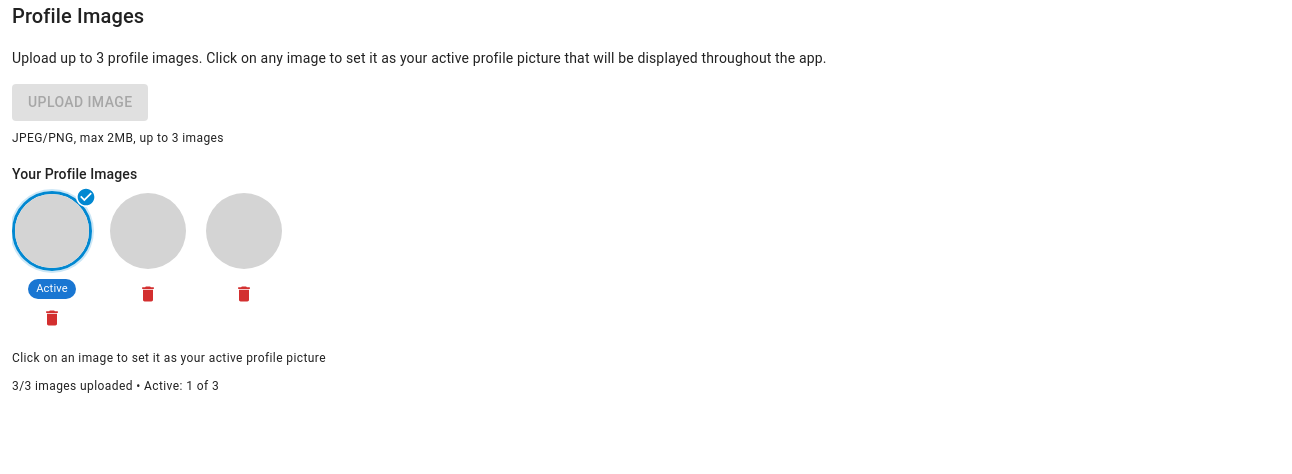
Test: ProfileImageManager › Image Deletion › should show error when delete fails
The image size is (1292, 474).
Click the 3rd button named "delete profile image". click: point(52, 318)
box: x1=37 y1=303 x2=67 y2=333
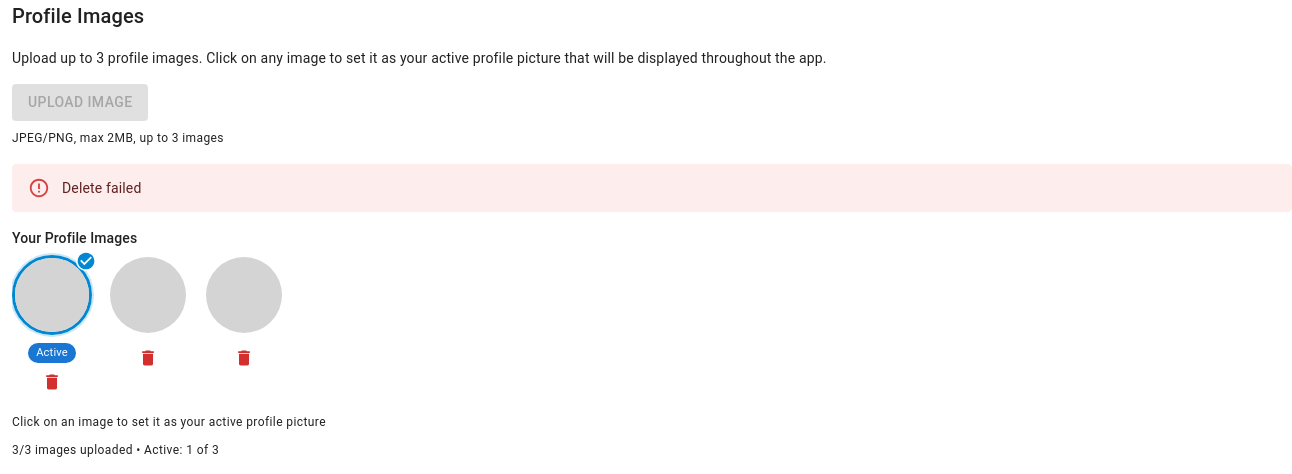
Now the text "Delete failed" is shown, box x1=62 y1=180 x2=142 y2=196
